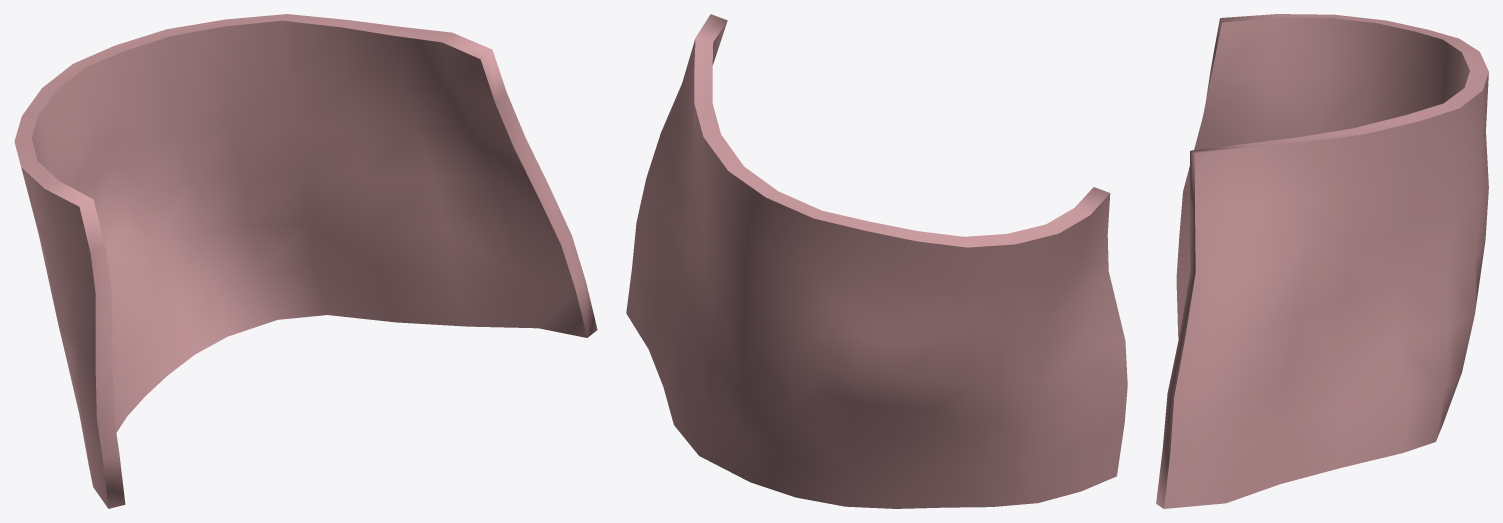
The picture shows the model from 3 angles, left to right: view 1: azimuth 30°, elevation 25°; view 2: azimuth 150°, elevation 25°; view 3: azimuth 270°, elevation 25°; orthographic projection. The views are drawn at different scales.
Parts seen in each view (by area): view 1: ZA_acdad7f452e417dd; view 2: ZA_acdad7f452e417dd; view 3: ZA_acdad7f452e417dd.
Boxes of the visible parts, box(x1,y1,x2,y2) form: ZA_acdad7f452e417dd: box(14, 14, 597, 508); ZA_acdad7f452e417dd: box(626, 14, 1127, 508); ZA_acdad7f452e417dd: box(1156, 14, 1488, 508).
Size of the model in its own units: 0.0968 by 0.0667 by 0.0528.
